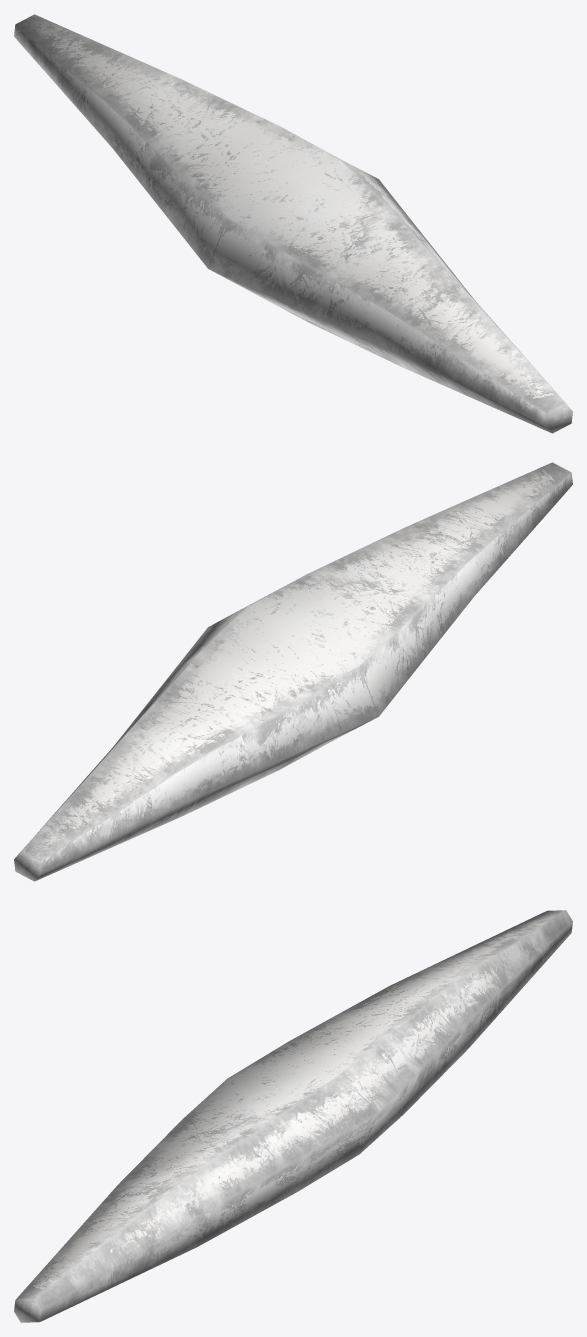
The model's file is Bar.fbx.
The picture shows the model from 3 angles, top to bottom: view 1: azimuth 30°, elevation 25°; view 2: azimuth 150°, elevation 25°; view 3: azimuth 330°, elevation 25°; orthographic projection.
Visible parts, largest first — view 1: Bar; view 2: Bar; view 3: Bar.
Boxes of the visible parts, <box> form: Bar: <box>14,14,572,433</box>; Bar: <box>14,462,572,881</box>; Bar: <box>14,910,572,1322</box>.
Size of the model in its own units: 22.11 by 13.22 by 119.
